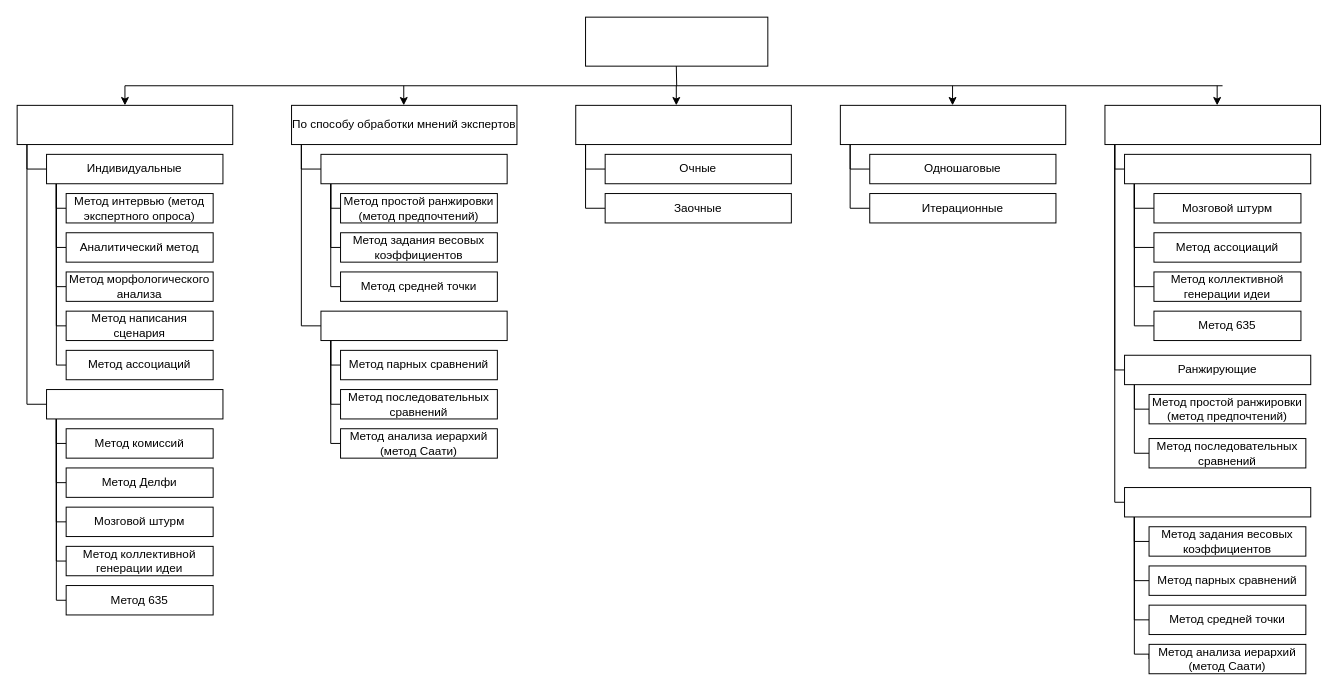
Image size: 1338x691. Some labels were removed from this diagram. The centre of each missing label's shape, as x and y in pixels:
Аналитические: point 413,325
Идейные: point 1217,168
Классификация методов экспертных оценок: point 676,41
Коллективные: point 134,404
Непосредственные: point 413,168
Оценивающие: point 1217,502
По количеству итераций: point 952,124
По типу ответа: point 1212,124
По форме проведения: point 683,124
По форме участия экспертов: point 124,124
